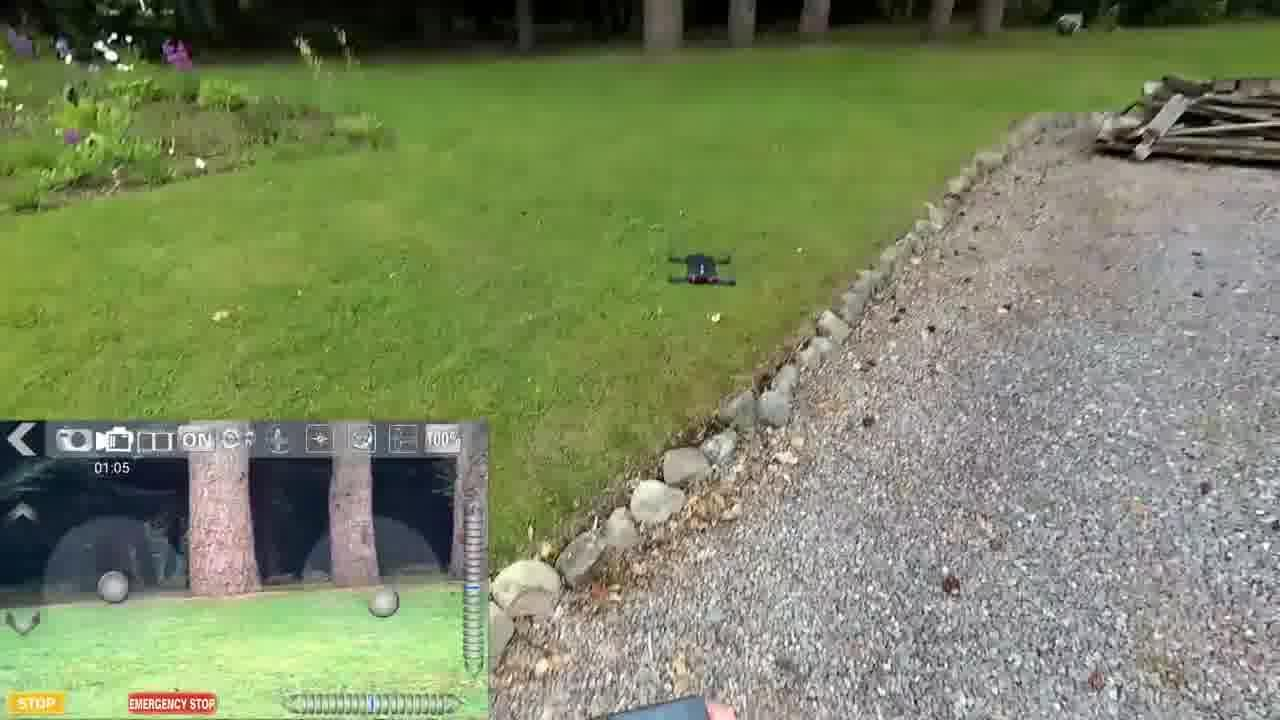drone: (647, 240, 759, 301)
